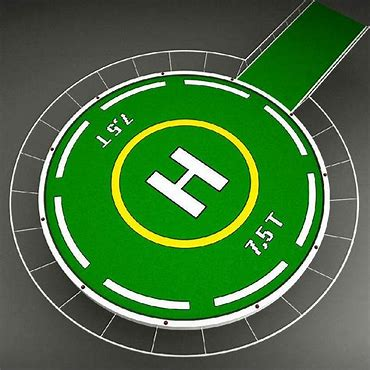H: (144, 146, 230, 219)
